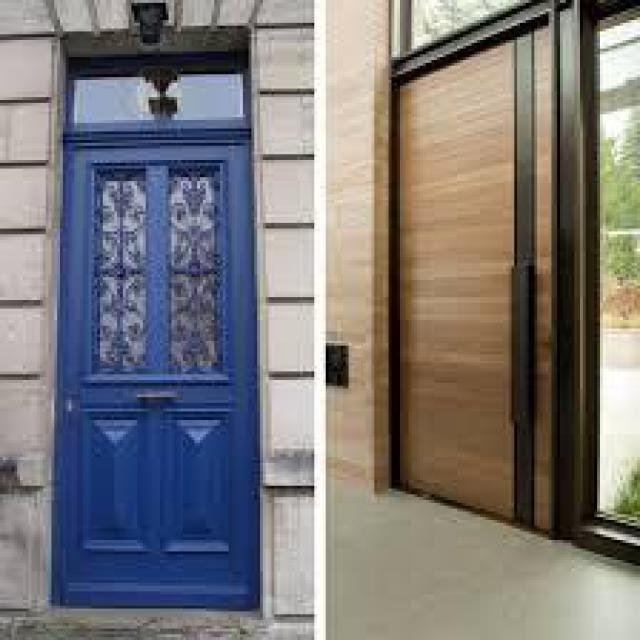close: (31, 9, 286, 628), (377, 6, 569, 563)
